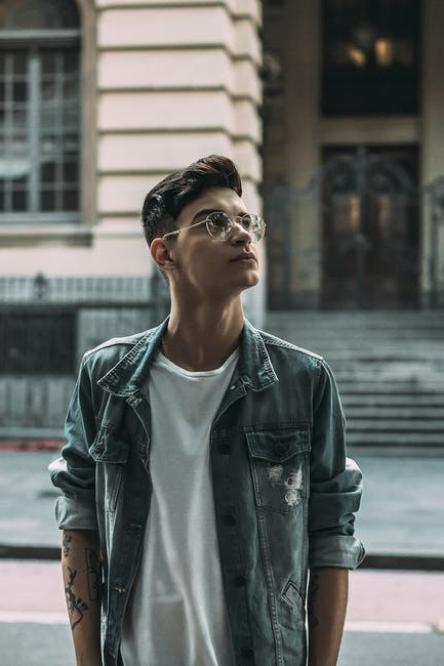face: (177, 188, 260, 288)
